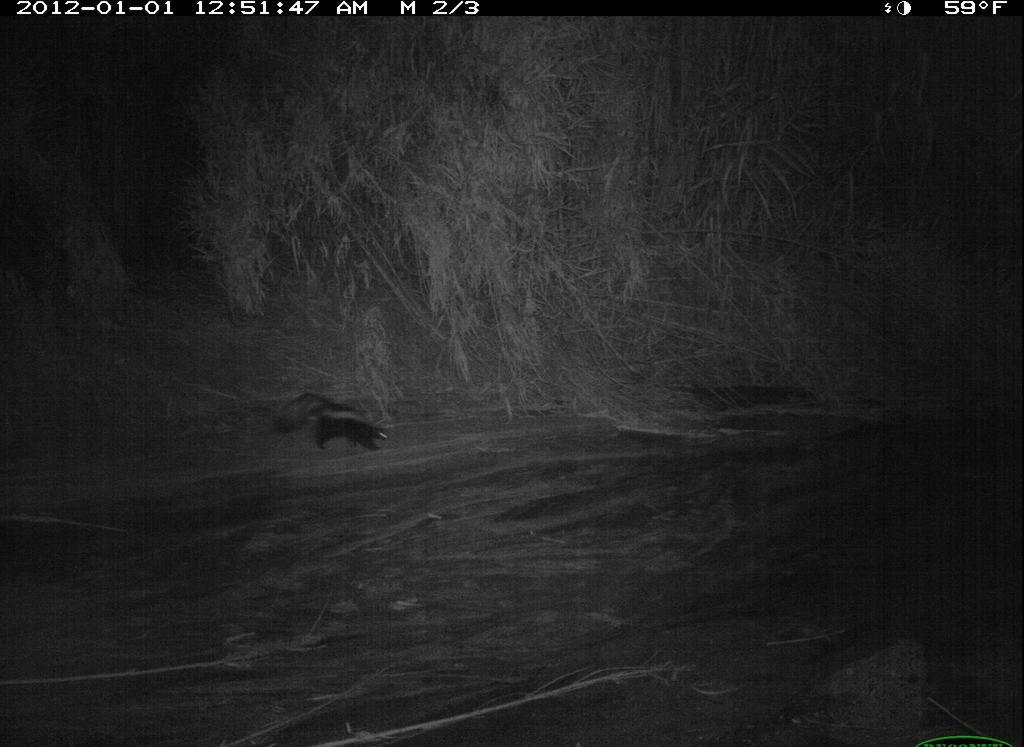skunk: (272, 386, 401, 464)
